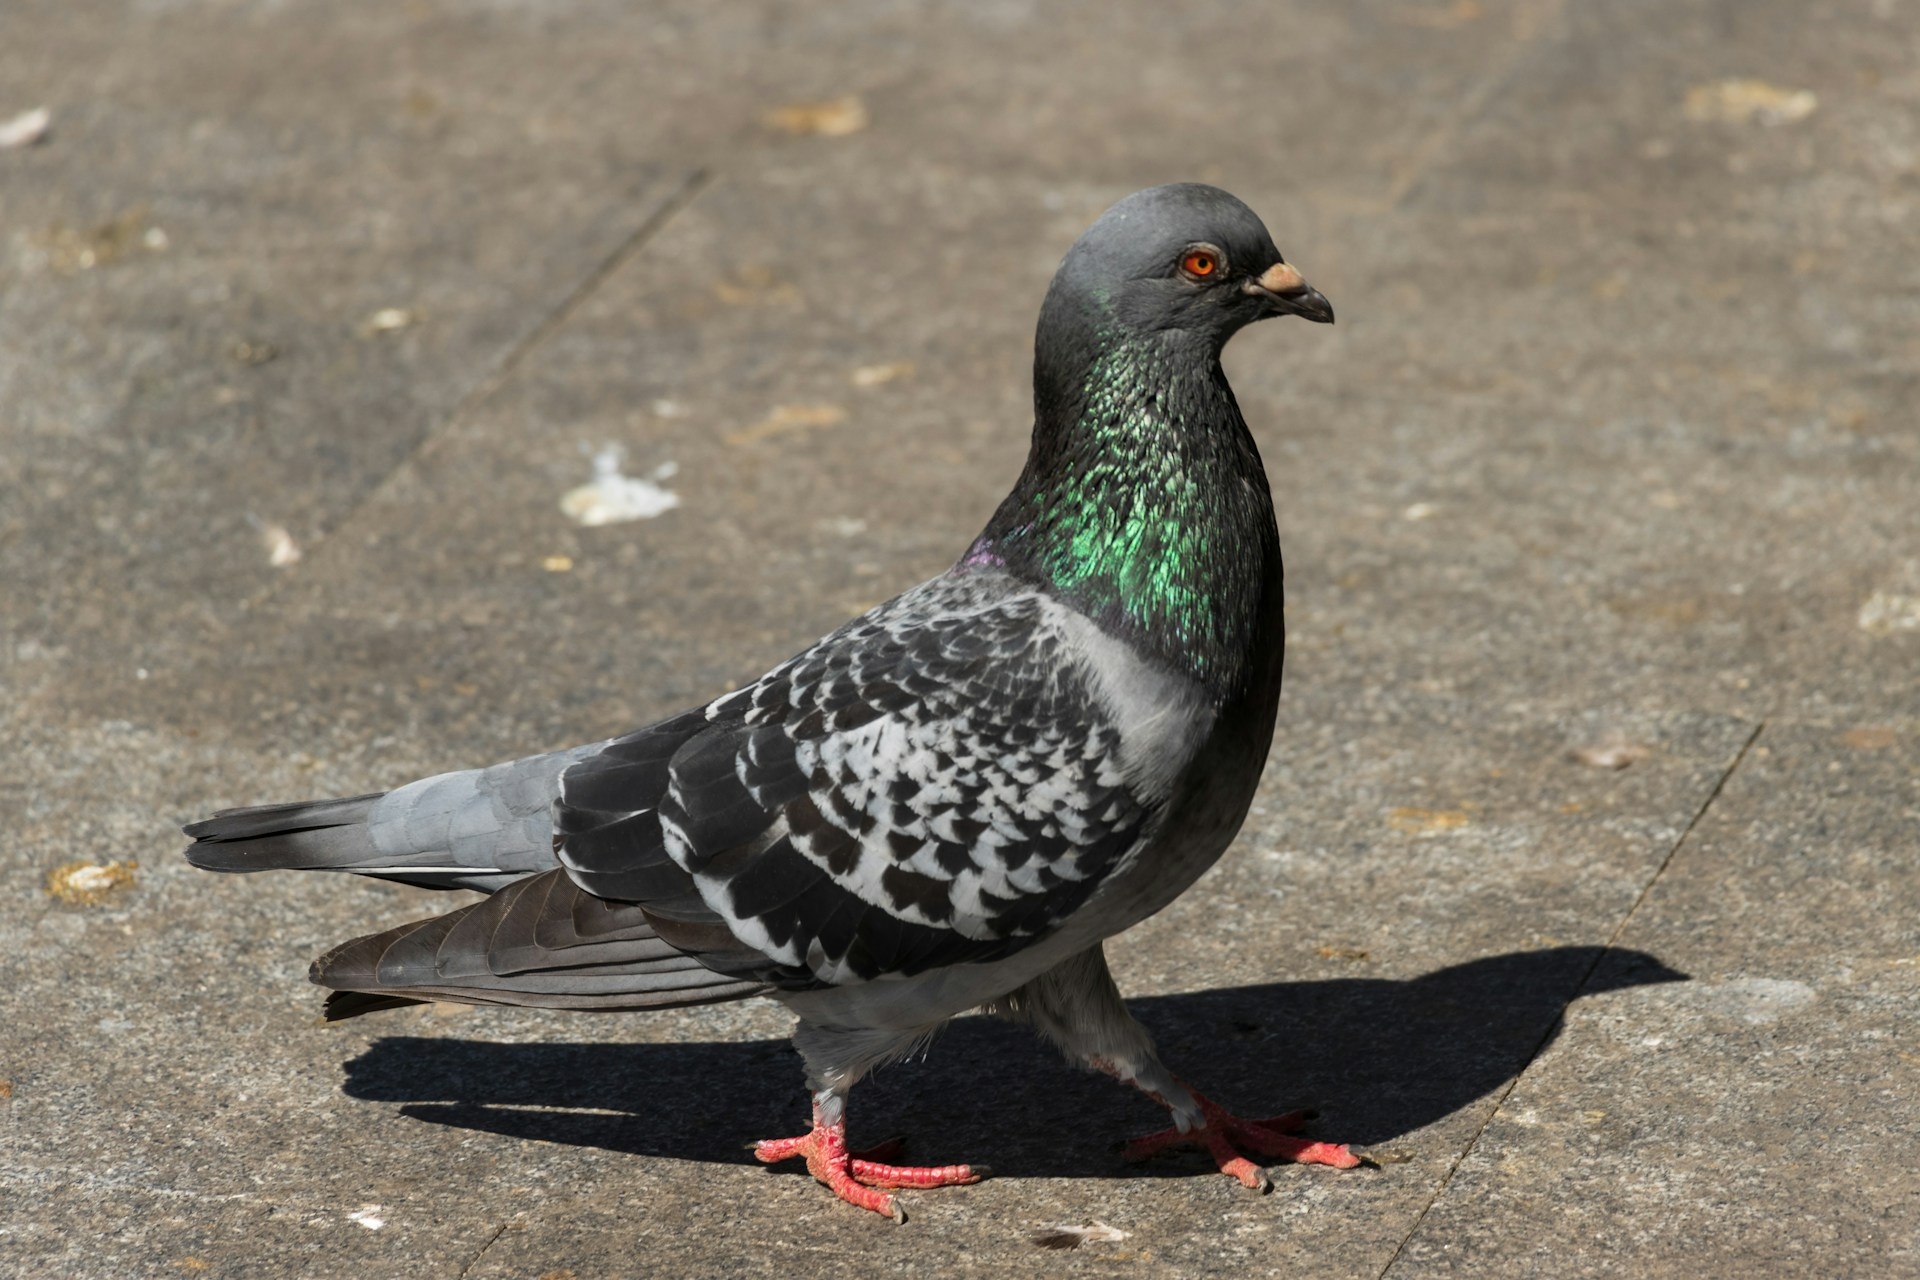pigeon: (164, 171, 1394, 1226)
